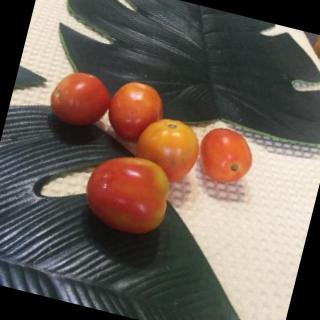Tomat: (14, 60, 290, 266)
